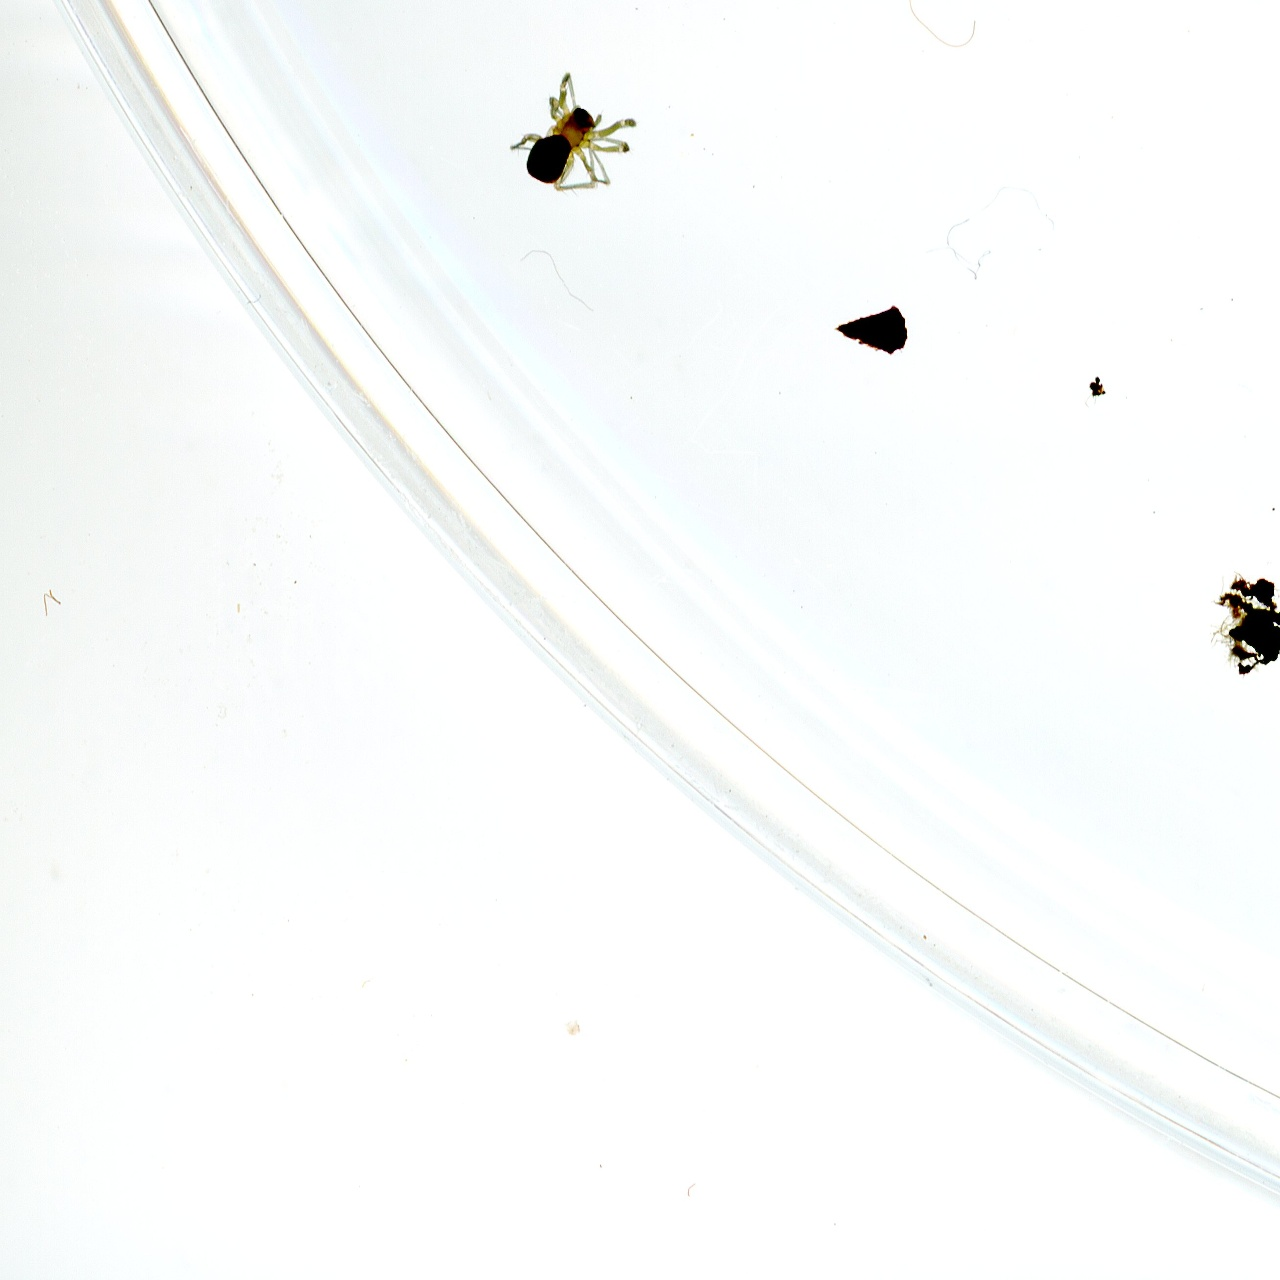arthropod: (495, 55, 656, 218)
